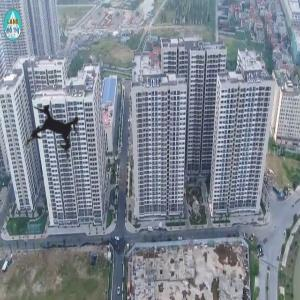drone: (4, 80, 109, 185)
